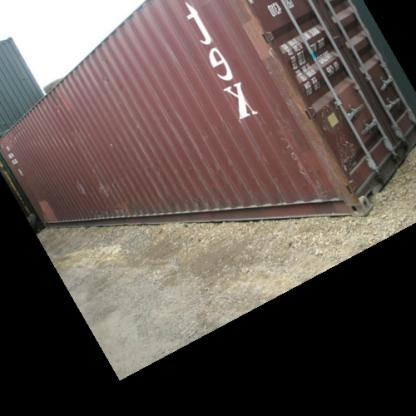Damage: (266, 89, 364, 209), (68, 174, 121, 198), (52, 113, 82, 142), (90, 65, 112, 99)
